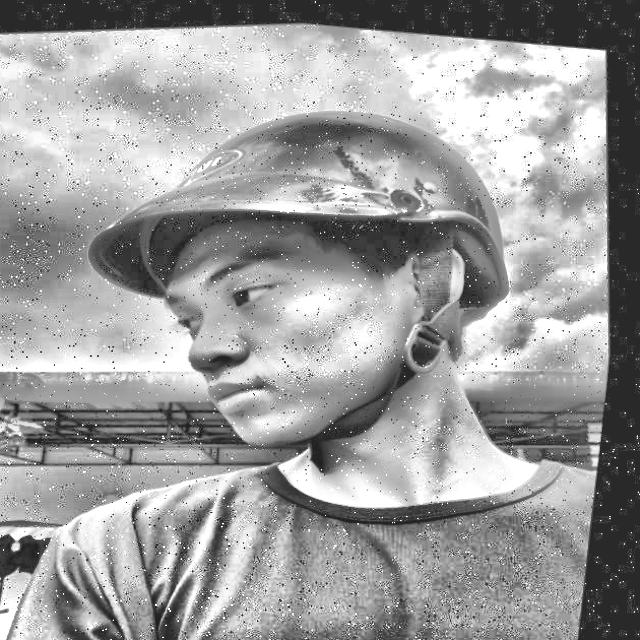Helmet: (51, 60, 556, 485)
